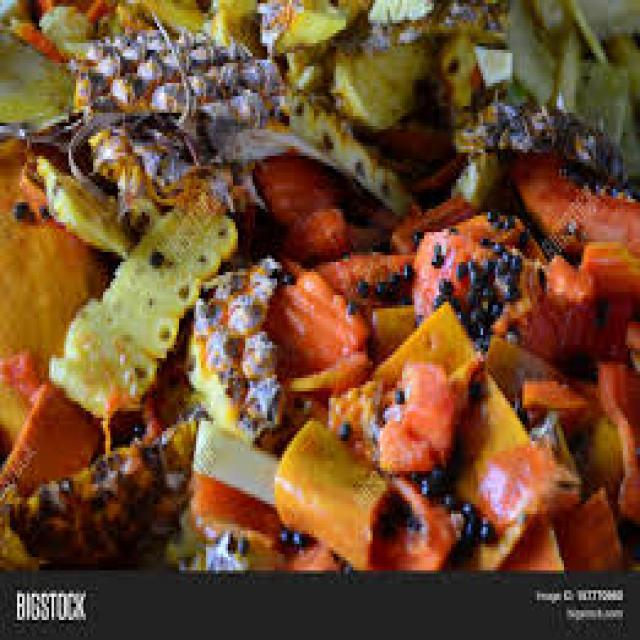Organik: (0, 0, 640, 574), (43, 179, 283, 432)
